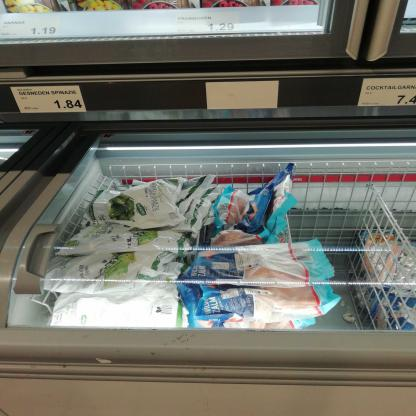prtg: (10, 86, 88, 115), (358, 77, 415, 108)
